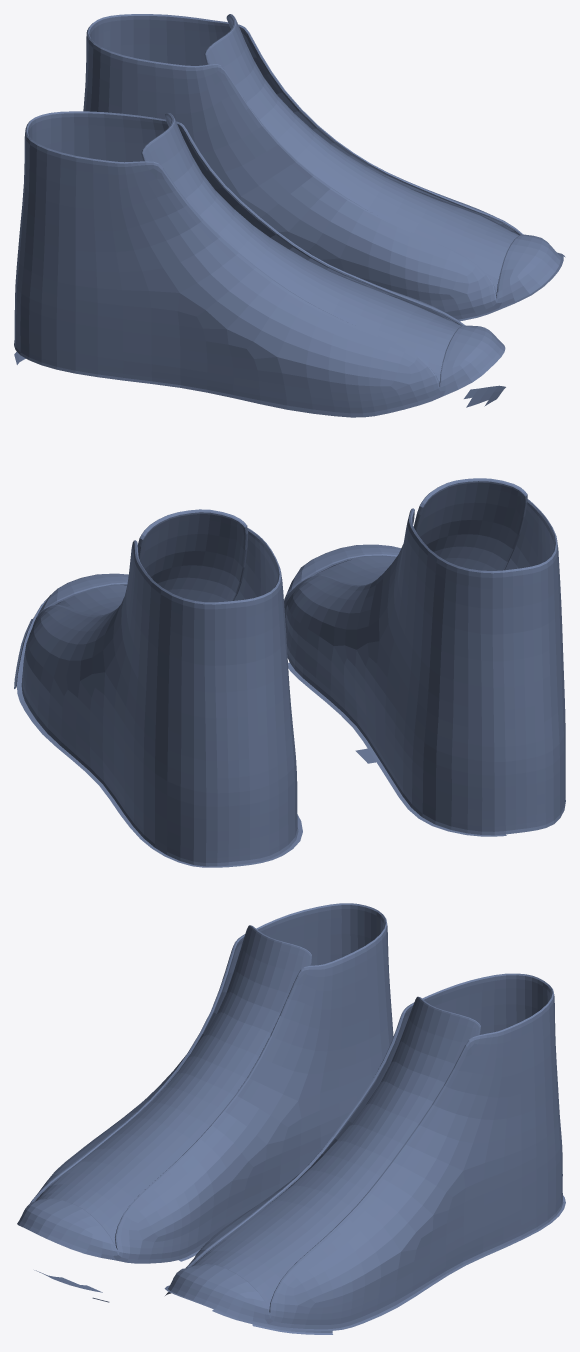
The model's file is shoes.glb.
3 renders of one model, top to bottom at view 1: azimuth 30°, elevation 25°; view 2: azimuth 150°, elevation 25°; view 3: azimuth 270°, elevation 25°, orthographic. The views are drawn at different scales.
Parts seen in each view (by area): view 1: Sneakers_rConv_converse1, lConv_Sneakers_converse, lConv_Sneakers_conv_tongue, Sneakers_rConv_conv_tongue1; view 2: Sneakers_rConv_converse1, lConv_Sneakers_converse, lConv_Sneakers_conv_tongue, Sneakers_rConv_conv_tongue1; view 3: lConv_Sneakers_converse, Sneakers_rConv_converse1, Sneakers_rConv_conv_tongue1, lConv_Sneakers_conv_tongue.
Part boxes in pixels (x1,y1,x2,y2): Sneakers_rConv_converse1: (14,111,505,417); lConv_Sneakers_converse: (83,14,565,321); lConv_Sneakers_conv_tongue: (204,14,518,294); Sneakers_rConv_conv_tongue1: (141,112,461,384); Sneakers_rConv_converse1: (284,499,565,836); lConv_Sneakers_converse: (14,528,302,867); lConv_Sneakers_conv_tongue: (57,509,248,615); Sneakers_rConv_conv_tongue1: (314,478,527,585); lConv_Sneakers_converse: (164,973,565,1334); Sneakers_rConv_converse1: (17,903,393,1302); Sneakers_rConv_conv_tongue1: (37,925,311,1246); lConv_Sneakers_conv_tongue: (192,996,480,1310).
Size of what is drawn, in the model's own units: 1.55 by 0.8139 by 1.55.
